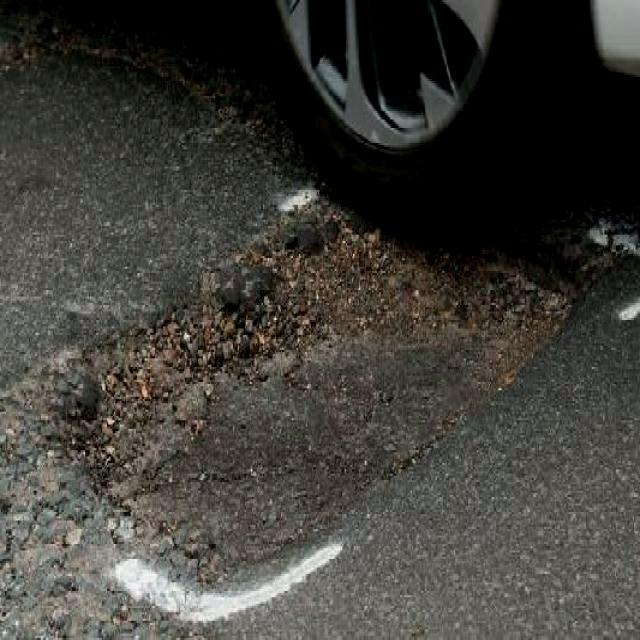Pothole: (79, 196, 582, 521)
